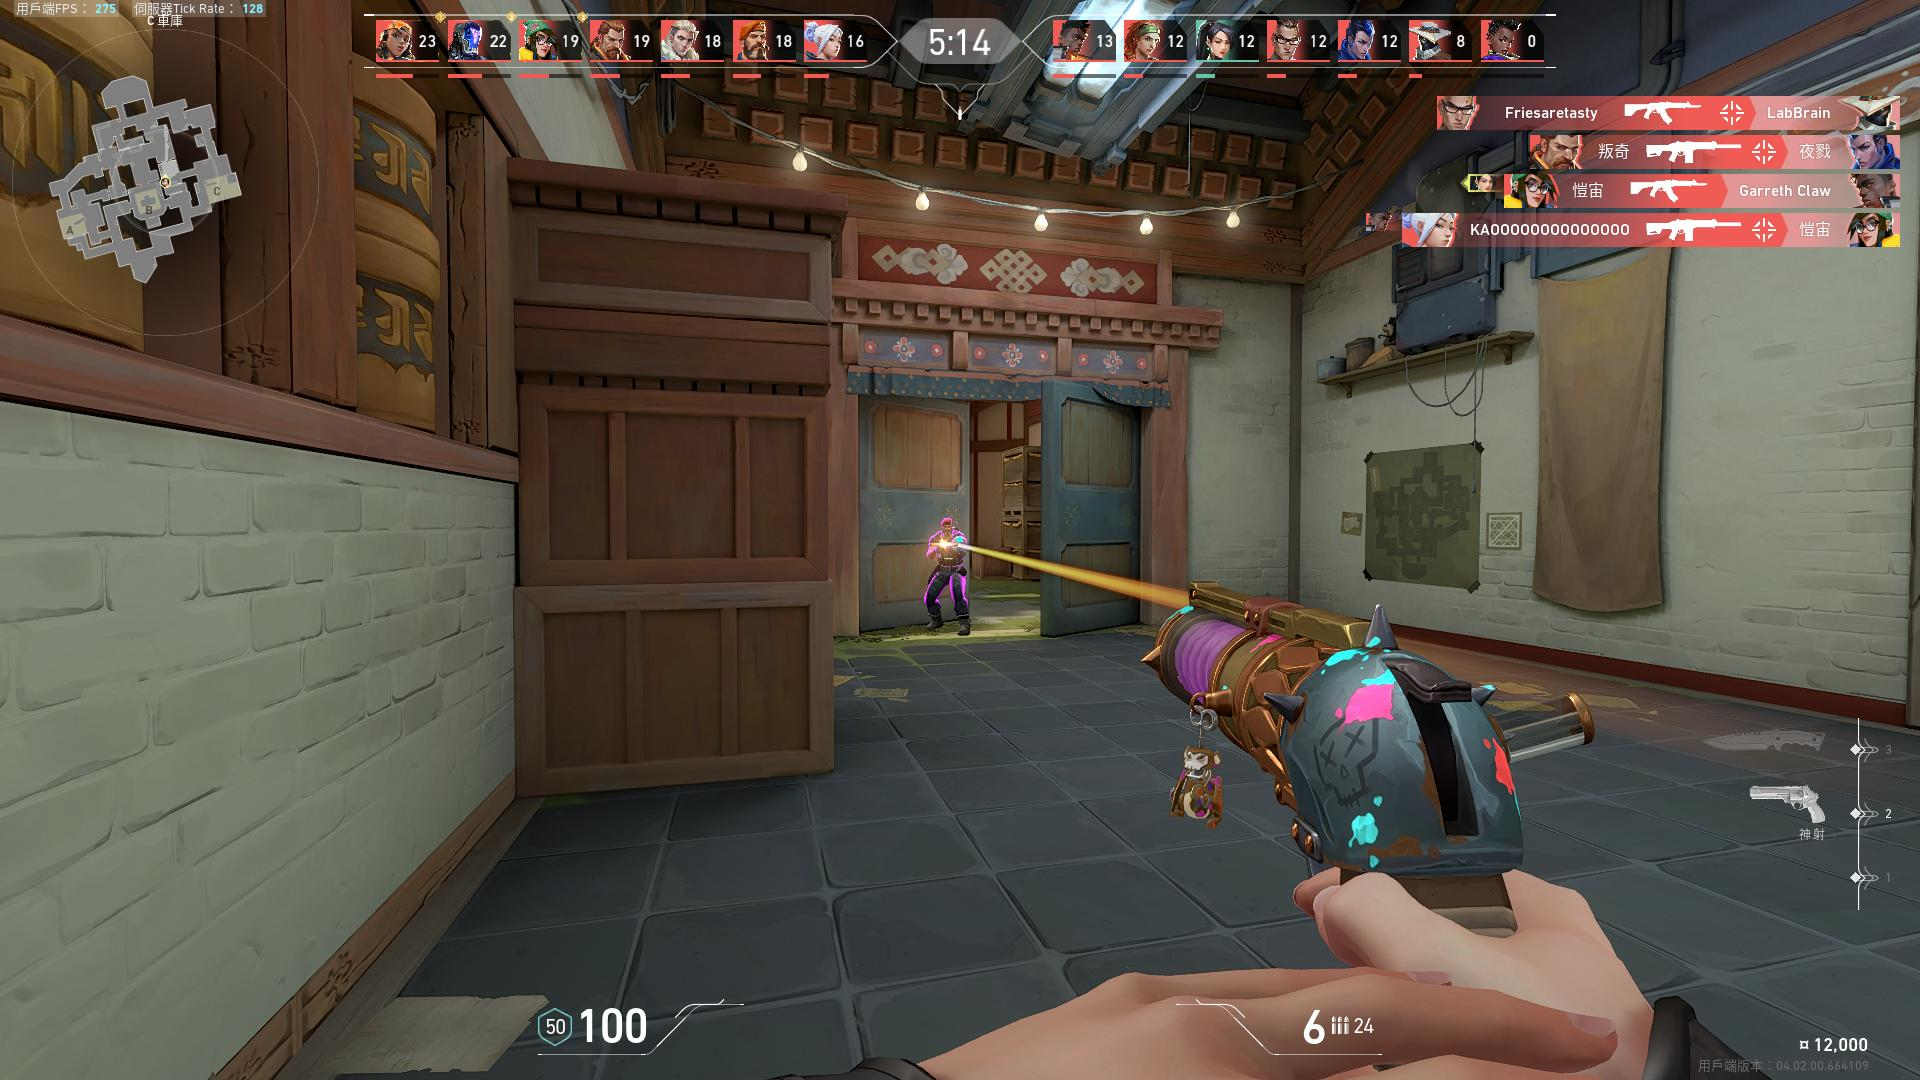enemyBody: (939, 539, 959, 570)
enemyHead: (943, 525, 952, 537)
